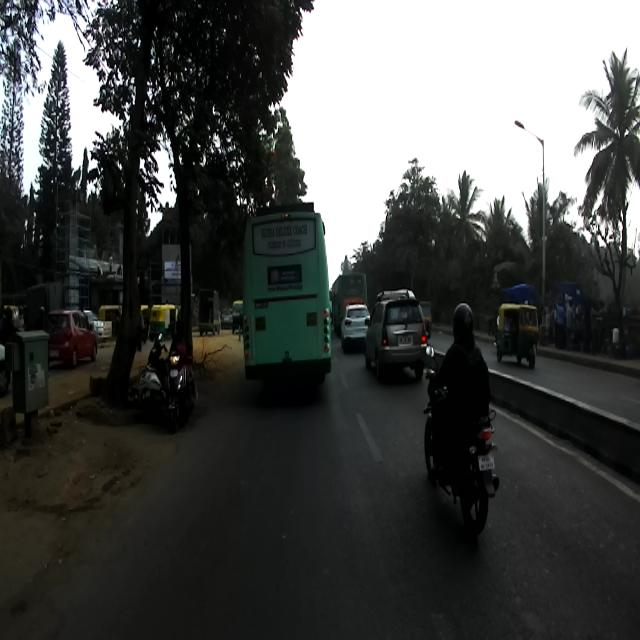barrier ahead at: (13, 329, 52, 444)
bus ahead at: (238, 212, 336, 383)
car ahead at: (370, 288, 430, 374)
